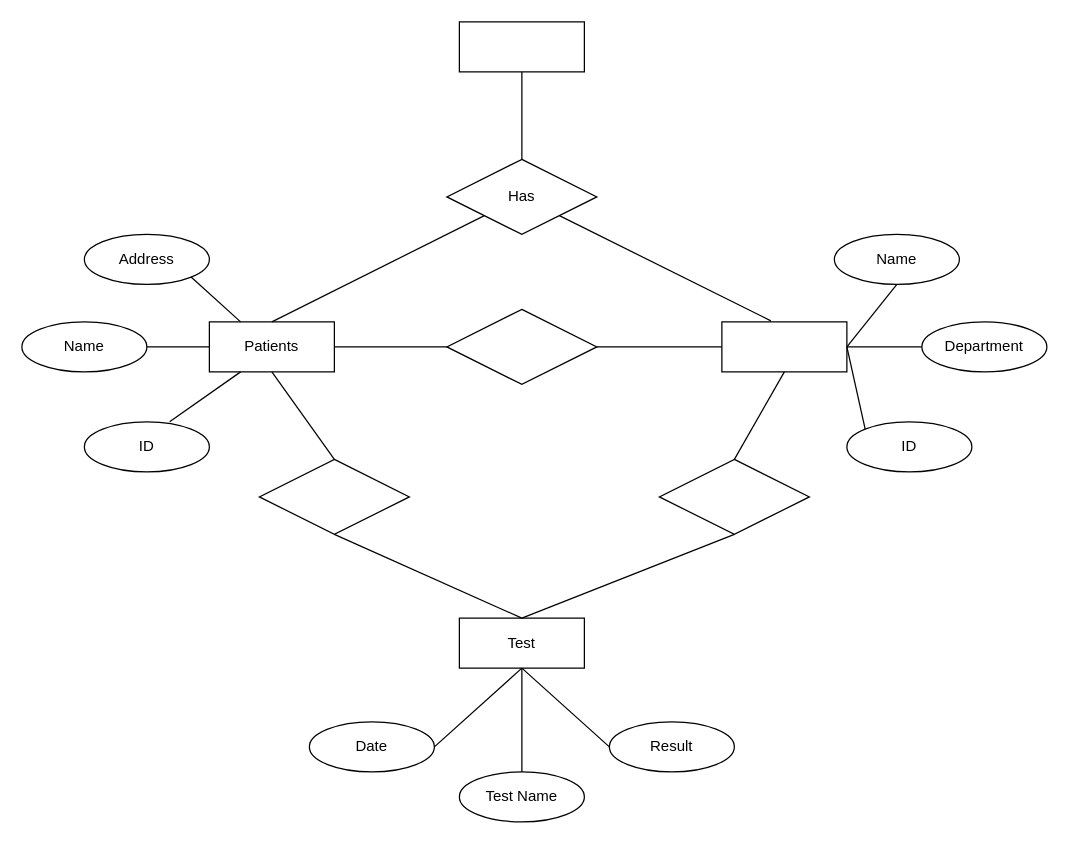
This 1069x844 diagram has some shape labels left out. Each missing label, with the centre of its shape:
"Doctors" belongs at point (784, 346).
"Hospital" belongs at point (521, 46).
"Logs" belongs at point (333, 496).
"Treats" belongs at point (521, 346).
"views" belongs at point (733, 496).
